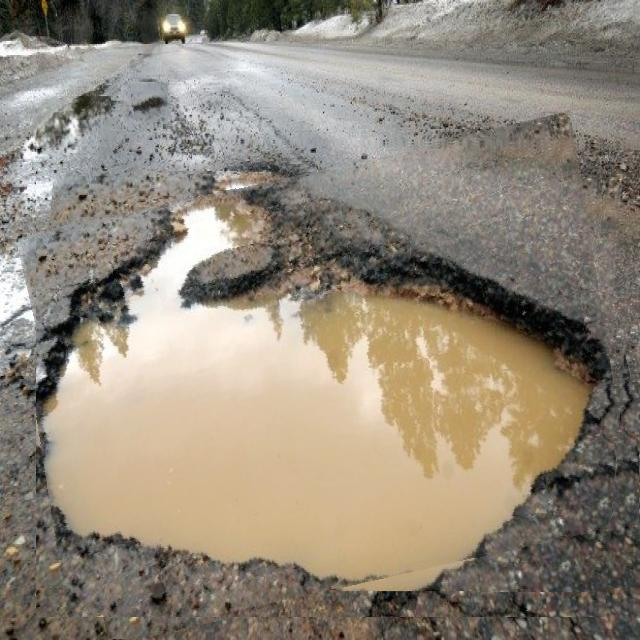Pothole: (36, 140, 640, 617), (30, 96, 111, 157), (119, 82, 170, 128)
